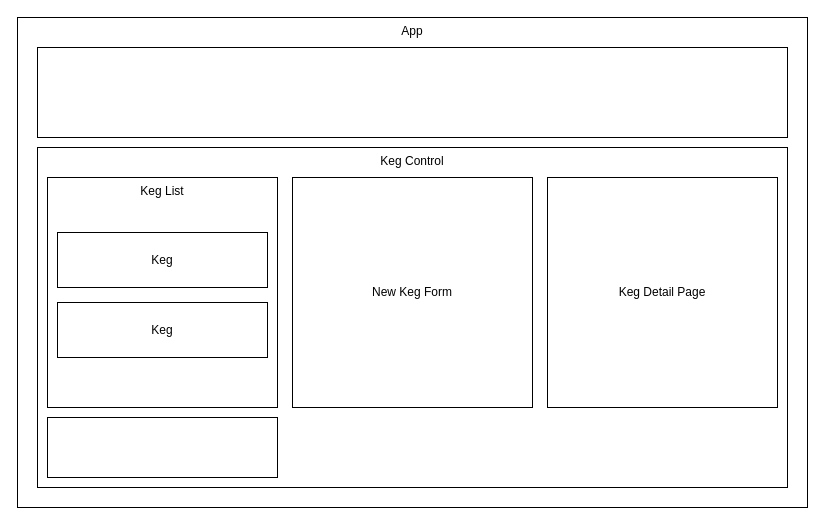
This 825x525 diagram has some shape labels left out. Each missing label, with the centre of its shape:
Add Keg Button: point 162,447
Header: point 412,92
